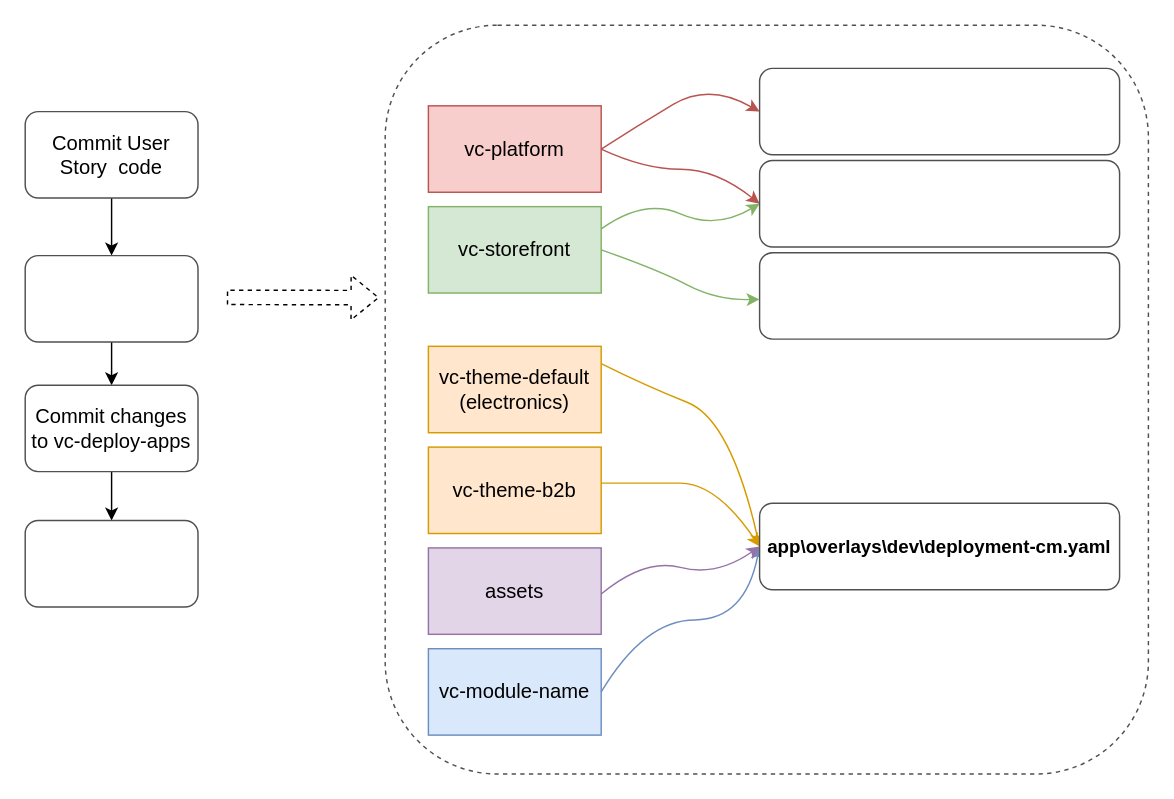
Image size: 1174x799. Some labels were removed from this diagram. The shapes that lost their labels are listed below. From the top down, each one's box as (x1, y1, x2, y2) in pixels, then its label:
(758, 67, 1120, 155): app\overlays\dev\platform-cm.yaml
(758, 159, 1120, 247): app\overlays\dev\kustomization.yaml
(24, 254, 198, 342): Change App config
(758, 251, 1120, 339): app\overlays\dev\storefront-cm.yaml
(24, 519, 198, 607): Link Commit to user story
